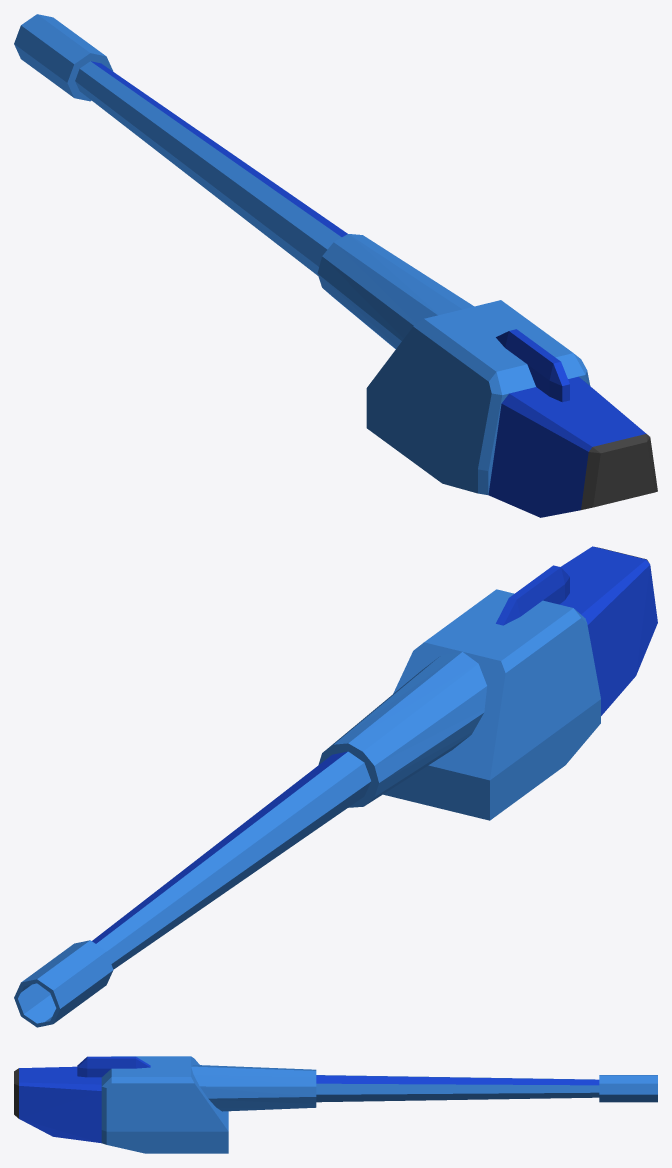
The model's file is weapon.FBX.
3 views of the same model, one above another, from view 1: azimuth 30°, elevation 25°; view 2: azimuth 150°, elevation 25°; view 3: azimuth 270°, elevation 25° (orthographic). The views are drawn at different scales.
Parts seen in each view (by area): view 1: VIFS001, VIFS002, VIFS003; view 2: VIFS001, VIFS002; view 3: VIFS001, VIFS002, VIFS003.
Part boxes in pixels (bbox=[...]): VIFS001: bbox=[14, 14, 590, 494]; VIFS002: bbox=[91, 61, 646, 517]; VIFS003: bbox=[581, 434, 657, 509]; VIFS001: bbox=[14, 589, 600, 1027]; VIFS002: bbox=[92, 546, 657, 943]; VIFS001: bbox=[101, 1056, 657, 1153]; VIFS002: bbox=[19, 1056, 599, 1143]; VIFS003: bbox=[14, 1068, 18, 1118].
Bounding box in the file's own units: 0.16 × 0.18 × 1.32.
